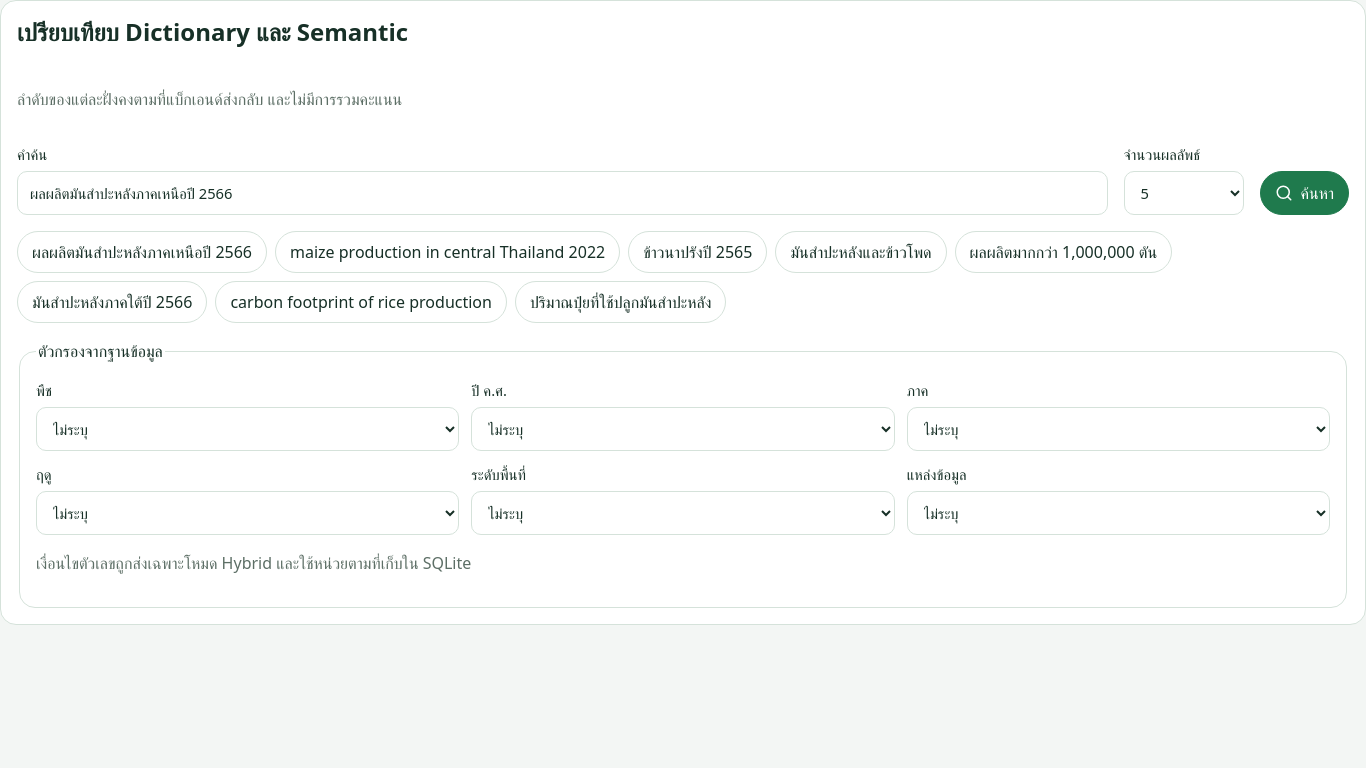
Scenario: frontend › T14 renders both comparison columns
Step 1. Click the button "ค้นหา" → (1304, 193), box [1260, 171, 1349, 215]
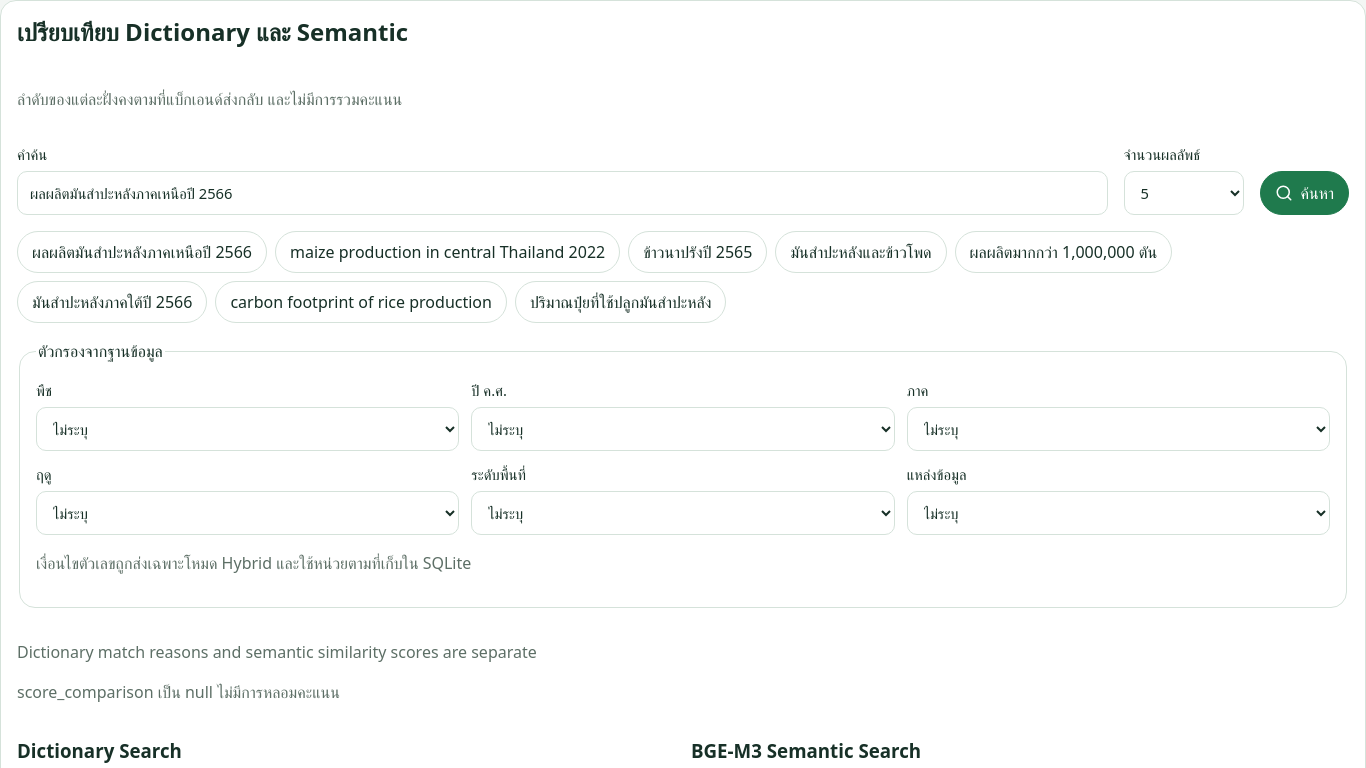
Now the heading "Dictionary Search" is shown, box [17, 738, 182, 763]
Now the heading "BGE-M3 Semantic Search" is shown, box [691, 738, 921, 763]
